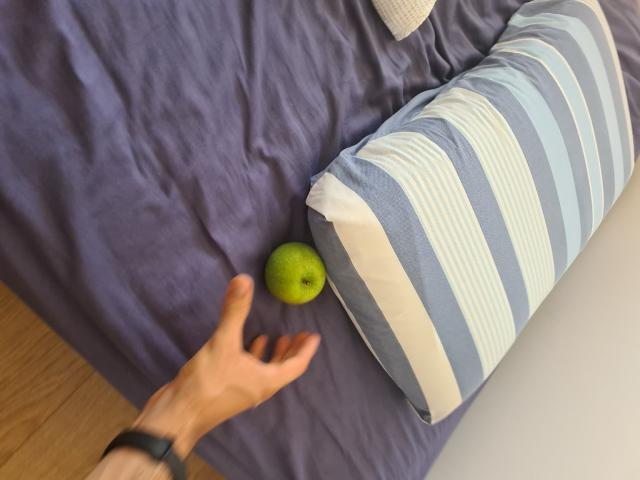apple: (261, 249, 327, 296)
